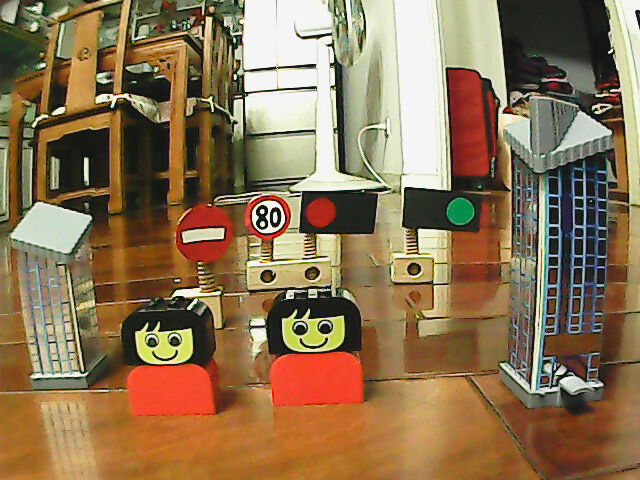Green Traffic Light: (439, 191, 480, 229)
Person: (120, 294, 223, 419), (263, 285, 367, 406)
Red Traffic Light: (300, 189, 342, 234)
Speed Limit 80: (243, 190, 293, 241)
Stop Sign: (172, 202, 235, 264)
